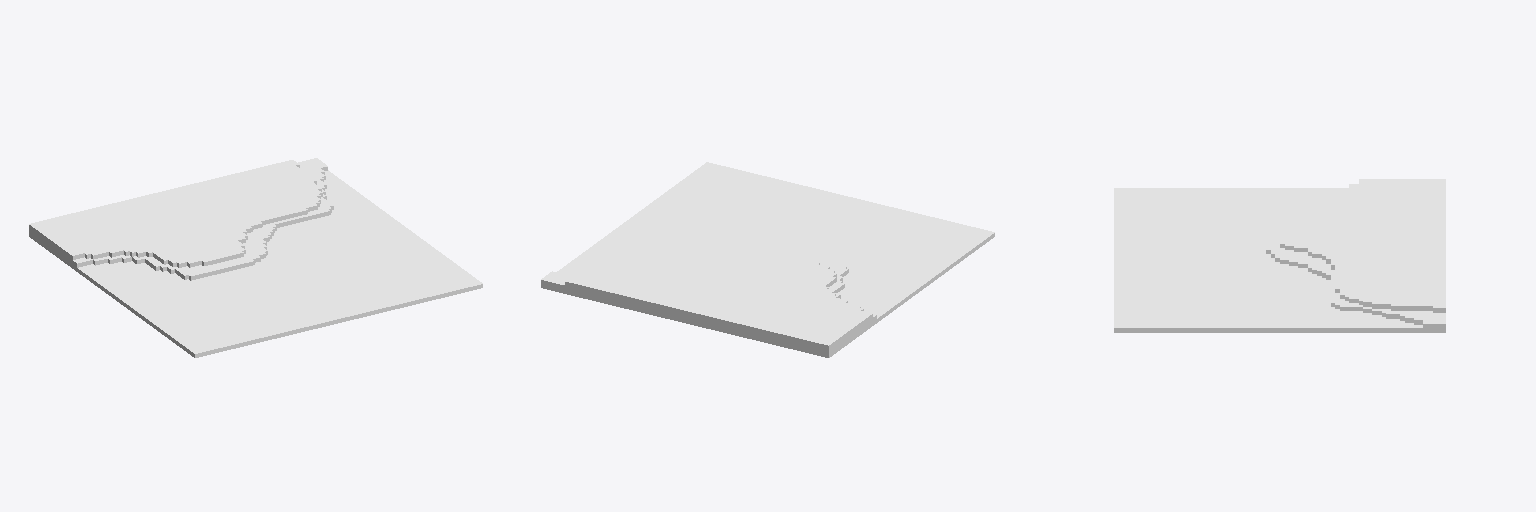
Rendered from grass_01.obj.
3 views of the same model, side by side, from view 1: azimuth 30°, elevation 25°; view 2: azimuth 150°, elevation 25°; view 3: azimuth 270°, elevation 25° (orthographic).
Parts seen in each view (by area): view 1: grass_01; view 2: grass_01; view 3: grass_01.
Part boxes in pixels (left/top/right/bottom): grass_01: left=29, top=158, right=482, bottom=357; grass_01: left=541, top=162, right=994, bottom=357; grass_01: left=1114, top=179, right=1445, bottom=332.
Bounding box in the file's own units: 72 × 3 × 72.